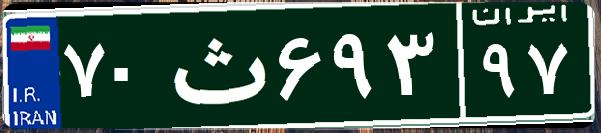0: (110, 28, 158, 105)
3: (385, 28, 445, 110)
6: (273, 28, 330, 110)
7: (57, 26, 110, 107), (525, 38, 570, 115)
9: (330, 28, 385, 110), (475, 38, 525, 113)
ث: (158, 15, 273, 115)
